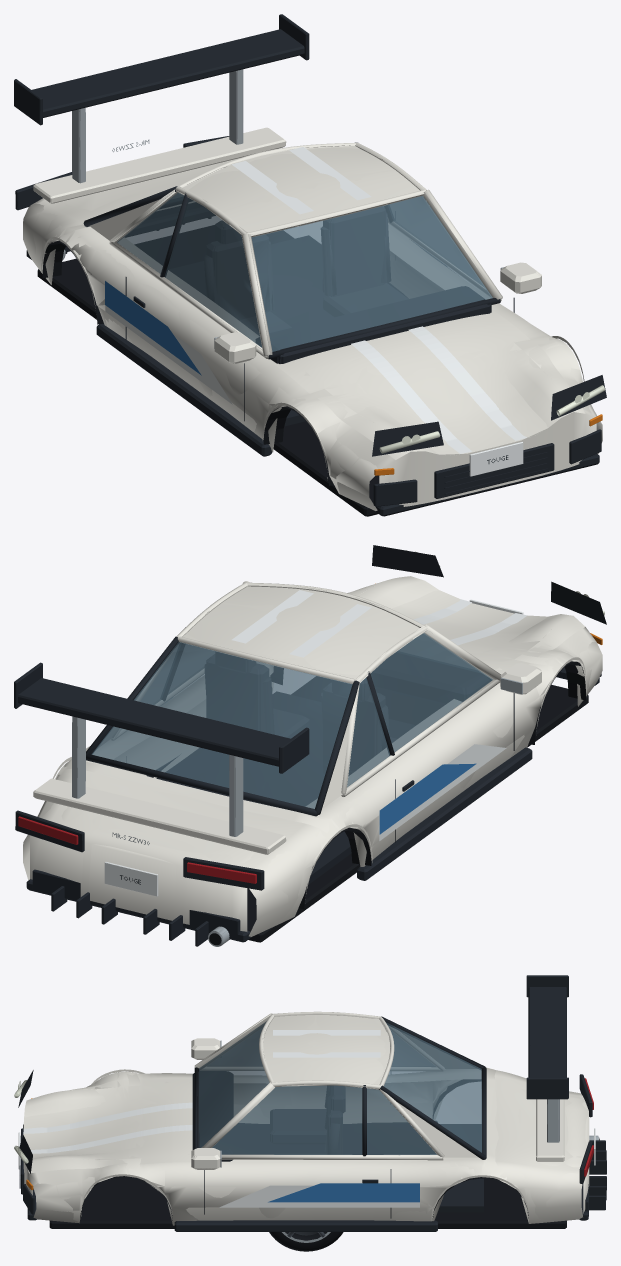
Rendered from zzw30.glb.
3 views of the same model, one above another, from view 1: azimuth 30°, elevation 25°; view 2: azimuth 150°, elevation 25°; view 3: azimuth 270°, elevation 25° (orthographic). The views are drawn at different scales.
Visible parts, largest first — view 1: LOD0_cabin, LOD0_body, LOD0_glass, LOD1_glass, LOD1_body, LOD0_hood, LOD1_hood, LOD1_spoiler_gt, LOD0_spoiler_gt, LOD0_vinyl_twin, LOD1_spoiler_stock, LOD0_vinyl_apex (+3 smaller); view 2: LOD0_body, LOD0_cabin, LOD0_glass, LOD1_glass, LOD1_body, LOD1_spoiler_gt, LOD0_spoiler_gt, LOD1_cabin, LOD1_hood, LOD0_hood, LOD1_spoiler_stock, LOD0_vinyl_apex (+3 smaller); view 3: LOD0_body, LOD1_body, LOD0_cabin, LOD0_glass, LOD1_glass, LOD0_hood, LOD1_cabin, LOD1_hood, LOD0_vinyl_apex, LOD1_spoiler_gt, LOD0_spoiler_gt, LOD0_vinyl_twin (+5 smaller).
Boxes of the visible parts, x1,y1,x2,y2 form: LOD0_cabin: (83, 142, 502, 426); LOD0_body: (15, 136, 606, 516); LOD0_glass: (117, 192, 492, 351); LOD1_glass: (117, 193, 492, 351); LOD1_body: (15, 145, 603, 516); LOD0_hood: (274, 311, 585, 459); LOD1_hood: (294, 316, 547, 454); LOD1_spoiler_gt: (14, 29, 309, 183); LOD0_spoiler_gt: (14, 14, 309, 182); LOD0_vinyl_twin: (232, 147, 513, 441); LOD1_spoiler_stock: (33, 127, 286, 203); LOD0_vinyl_apex: (105, 244, 447, 404); LOD0_body: (15, 545, 606, 946); LOD0_cabin: (86, 581, 500, 883); LOD0_glass: (92, 633, 492, 808); LOD1_glass: (91, 633, 492, 808); LOD1_body: (15, 552, 604, 946); LOD1_spoiler_gt: (18, 662, 308, 836); LOD0_spoiler_gt: (14, 663, 309, 836); LOD1_cabin: (86, 581, 495, 883); LOD1_hood: (361, 590, 551, 661); LOD0_hood: (348, 576, 585, 674); LOD1_spoiler_stock: (33, 778, 286, 854); LOD0_vinyl_apex: (170, 678, 506, 840); LOD0_body: (14, 1038, 606, 1231); LOD1_body: (14, 1038, 599, 1231); LOD0_cabin: (192, 1011, 486, 1212); LOD0_glass: (199, 1021, 481, 1154); LOD1_glass: (199, 1022, 481, 1155); LOD0_hood: (23, 1077, 192, 1173); LOD1_cabin: (193, 1012, 483, 1212); LOD1_hood: (23, 1082, 190, 1159); LOD0_vinyl_apex: (219, 1183, 419, 1207); LOD1_spoiler_gt: (526, 987, 565, 1142); LOD0_spoiler_gt: (526, 975, 568, 1142); LOD0_vinyl_twin: (30, 1030, 380, 1153).
Size of the model in its own units: 1.96 by 1.67 by 4.07.
